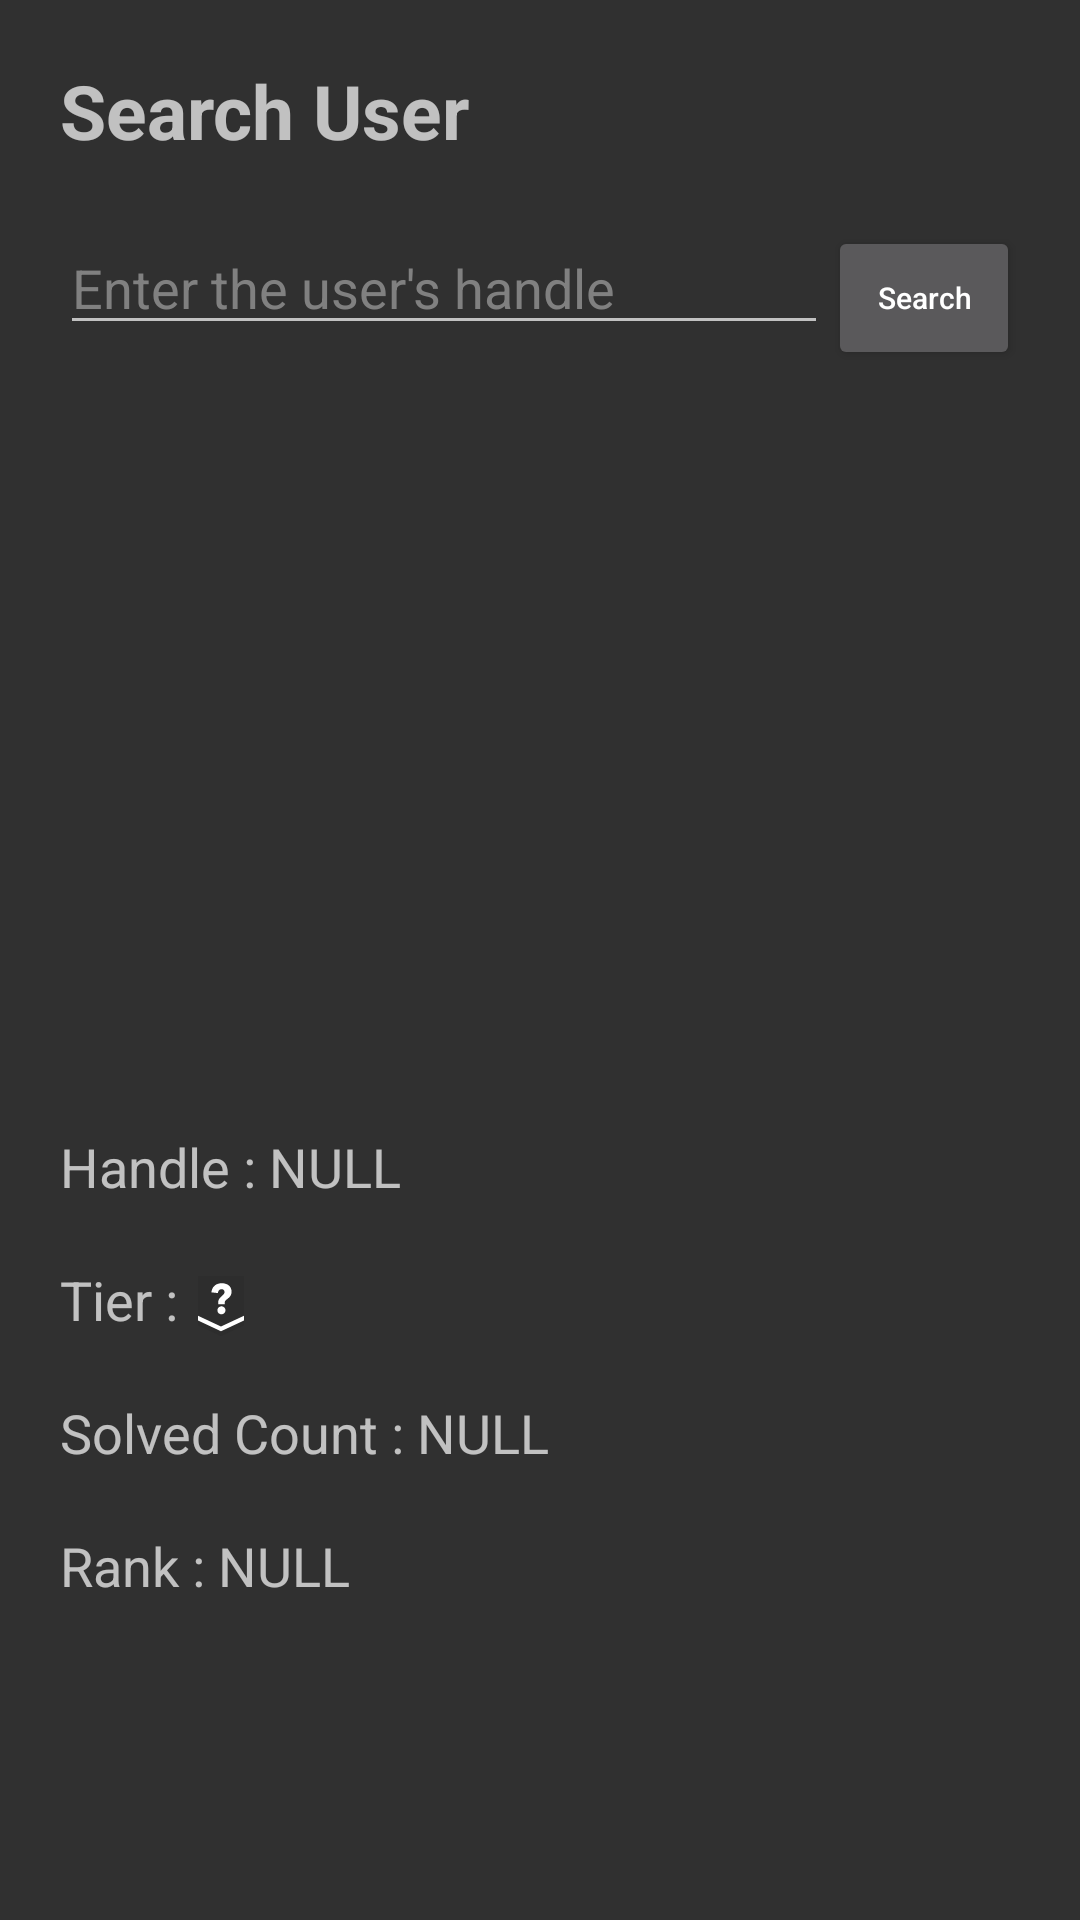

Icons on this 1080 × 1920 Android screen, each with the point to tap as (x,y):
level: (221,1307)
